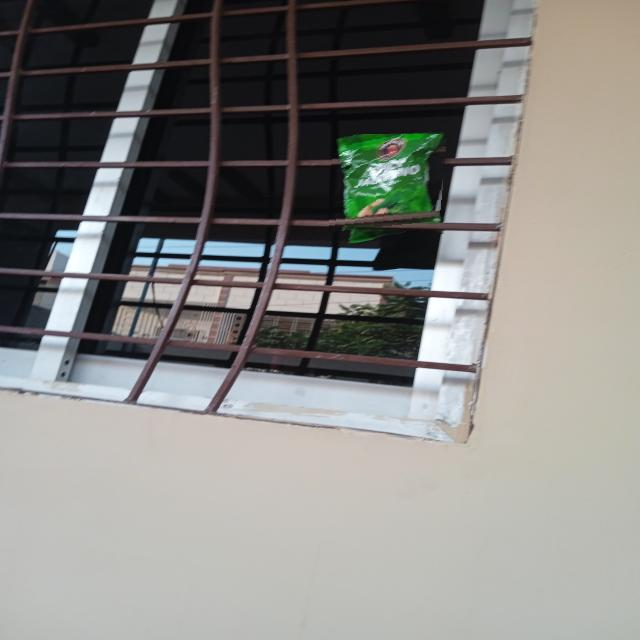Plastic: (329, 134, 449, 233)
